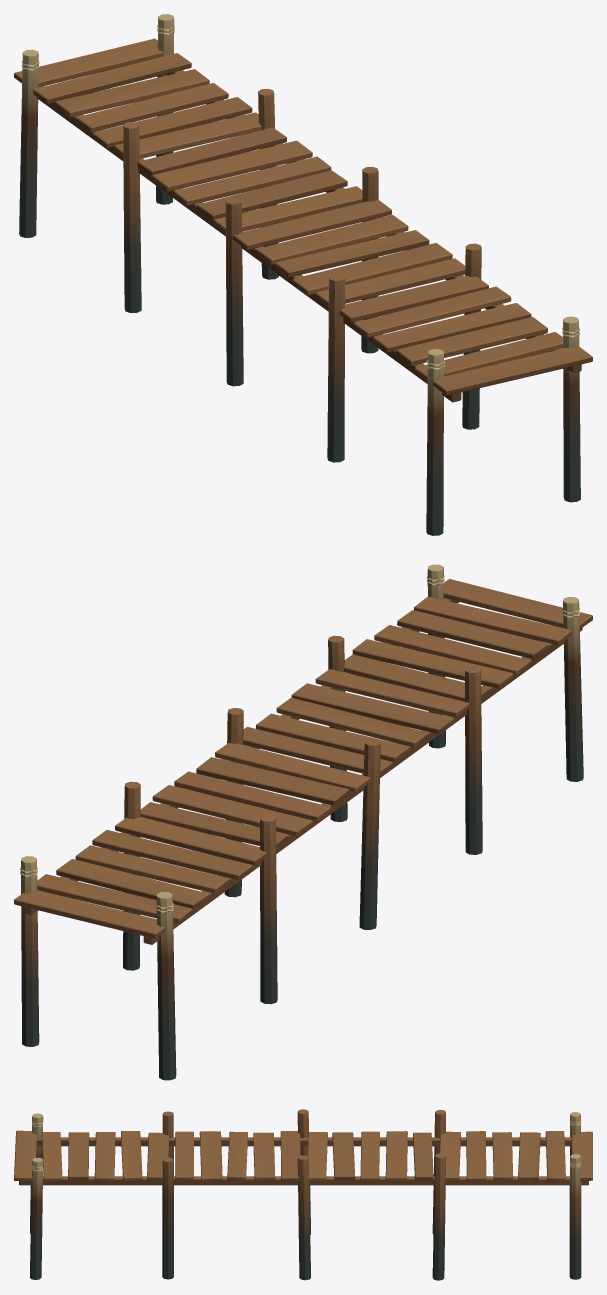
Rendered from pier.glb.
The picture shows the model from 3 angles, top to bottom: view 1: azimuth 30°, elevation 25°; view 2: azimuth 150°, elevation 25°; view 3: azimuth 270°, elevation 25°; orthographic projection. The views are drawn at different scales.
Parts seen in each view (by area): view 1: WoodenPier; view 2: WoodenPier; view 3: WoodenPier.
Boxes of the visible parts, x1,y1,x2,y2 form: WoodenPier: (14, 14, 592, 535); WoodenPier: (14, 564, 592, 1080); WoodenPier: (14, 1109, 592, 1280).
Size of the model in its own units: 2.62 by 2.97 by 12.79.
